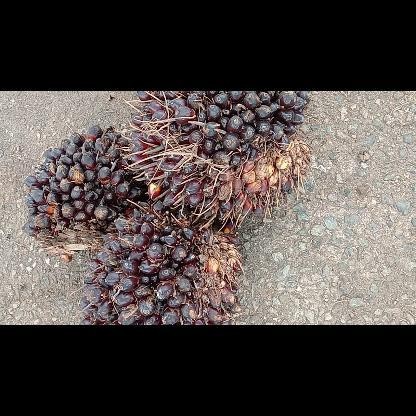TBS mentah: (128, 91, 310, 217), (76, 202, 240, 324), (23, 124, 140, 258)
